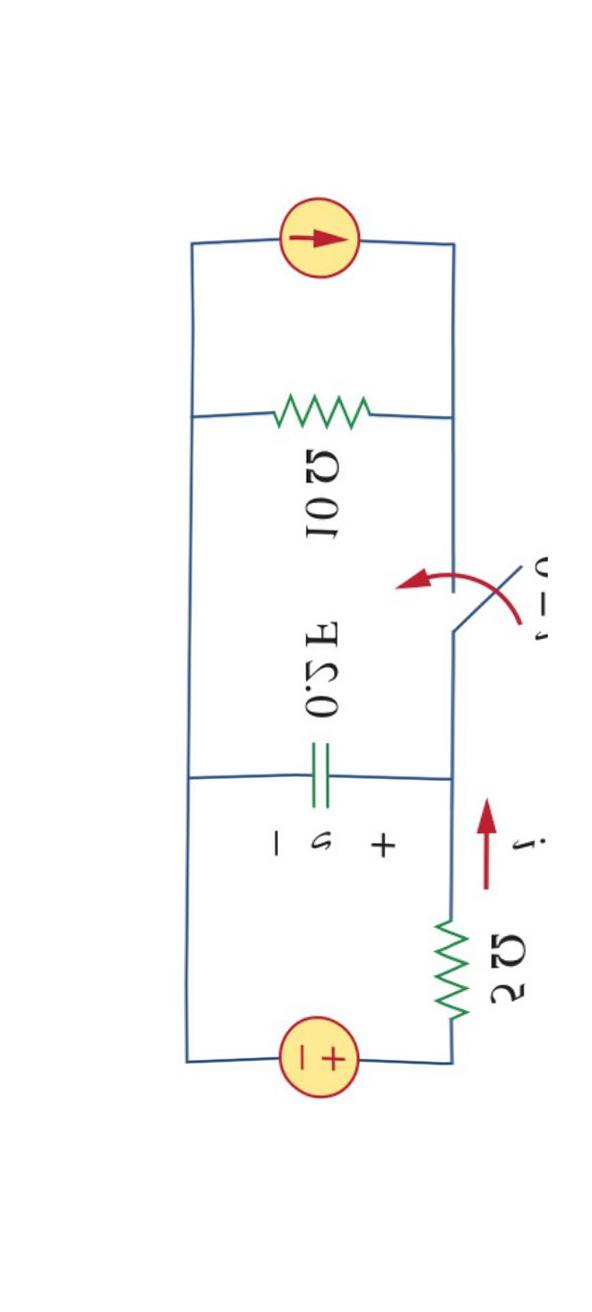Battery: (245, 987, 384, 1129)
